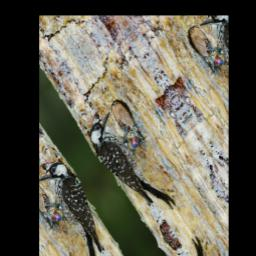Woodpecker: (83, 100, 184, 233)
